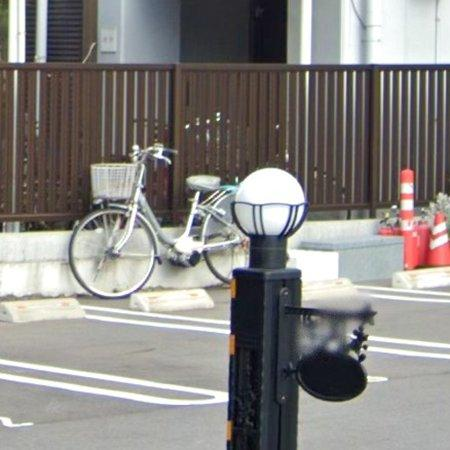bicycles: (69, 145, 248, 299)
